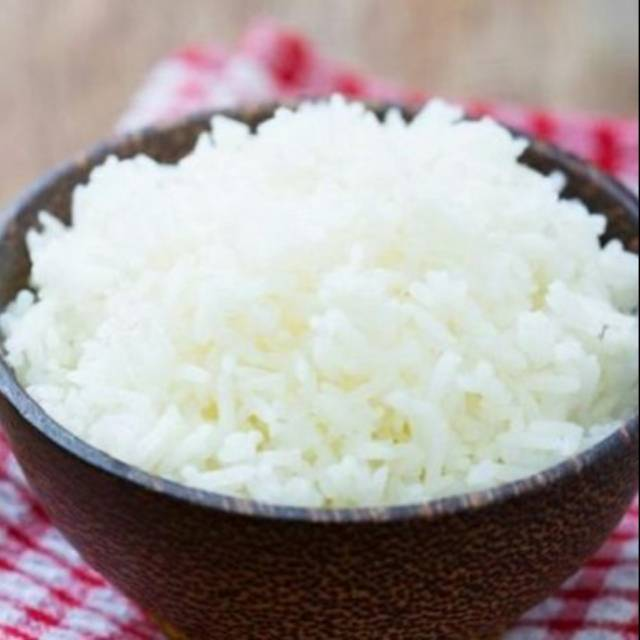Nasi Putih: (5, 88, 631, 554)
